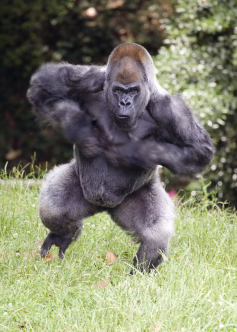Gorilla: (32, 46, 194, 259)
